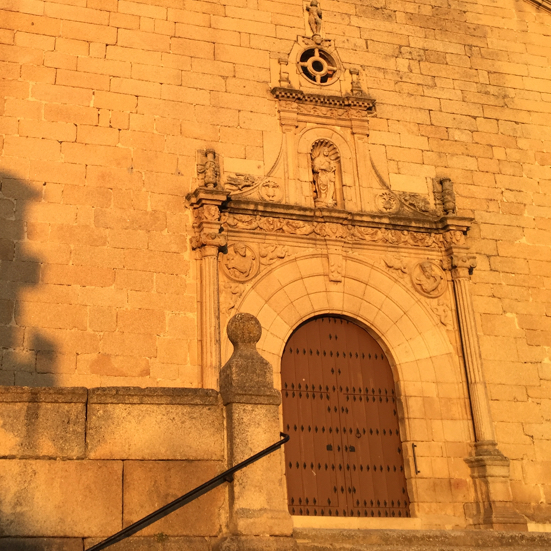arco-medio-punto: (278, 308, 404, 388)
